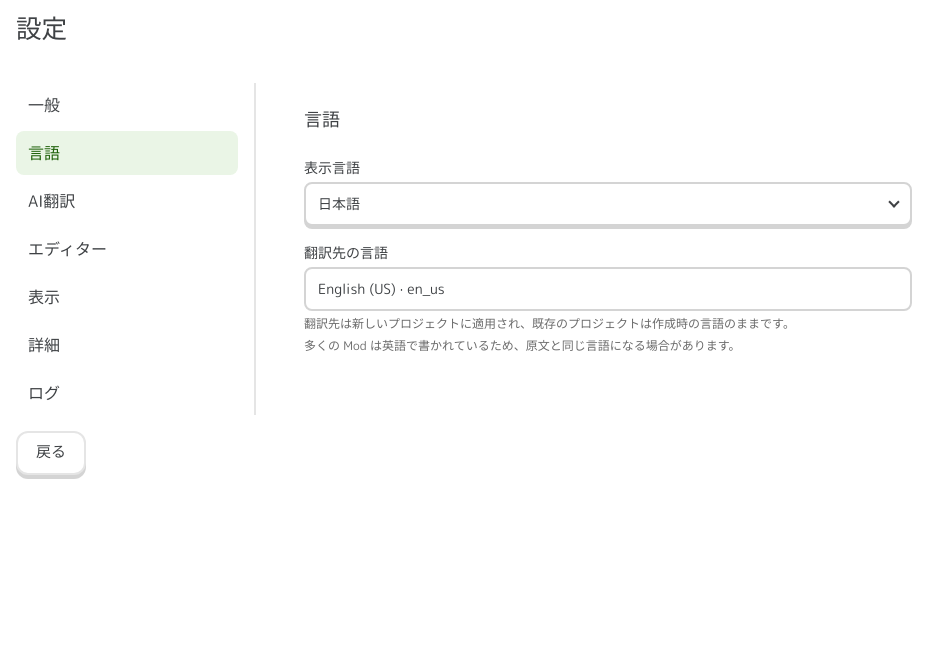
Test: SettingsScreen PLaMo panel › PLaMoが既定値のままで未保存なら翻訳先を制限しない
Focus the dropdown labelled "翻訳先の言語" at (608, 289), box [304,267,912,311]
(page scrolled)
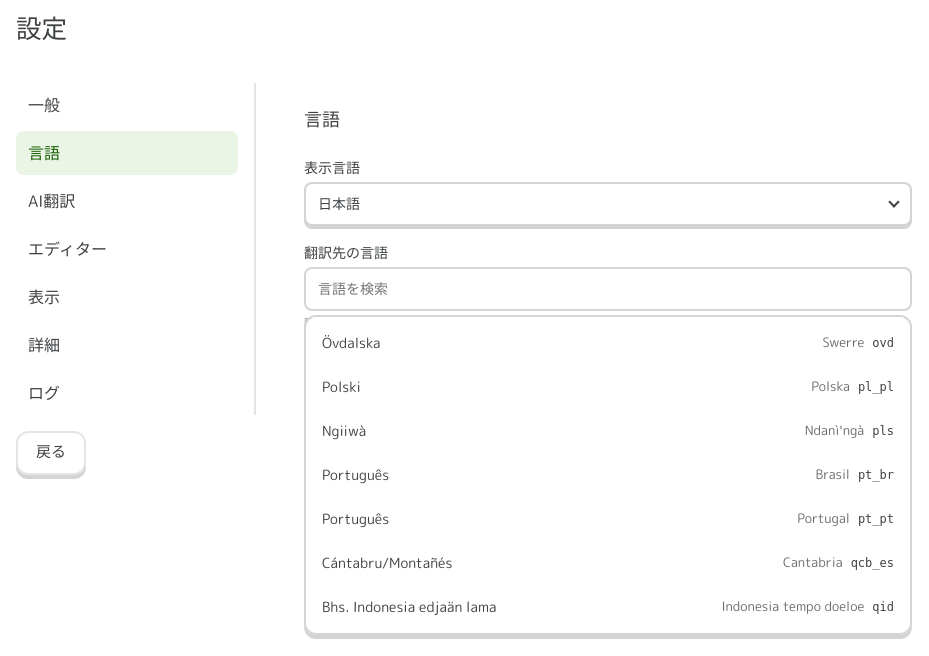
expect the option "Português Brasil pt_br" is shown: met, box [322,465,894,484]
